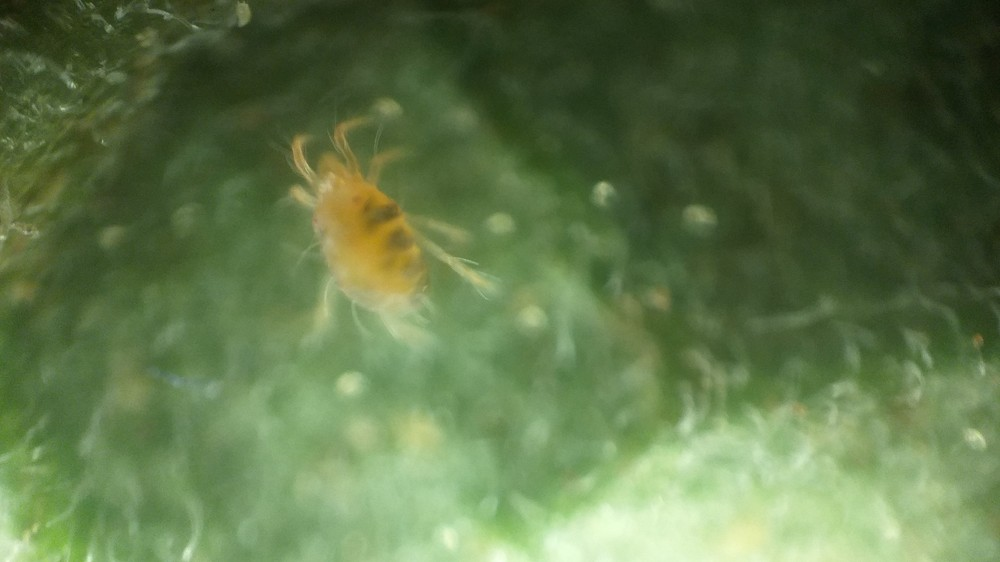Aracnido Rojo: (234, 105, 519, 349)
